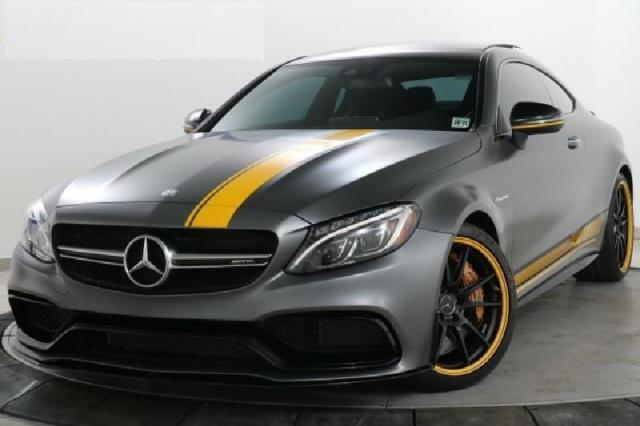C63AMG: (2, 41, 633, 391)
